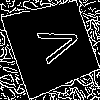V: (26, 21, 83, 68)
